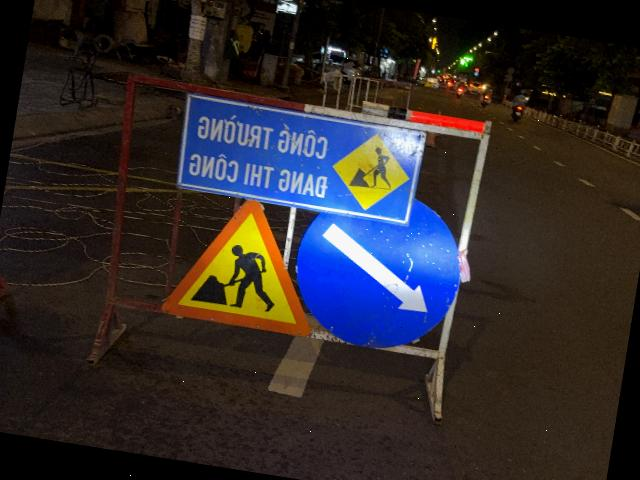cong-truong-dang-thi-cong: (160, 188, 330, 338)
huong-phai-di-vong-chuong-ngai-vat: (284, 178, 472, 361)
